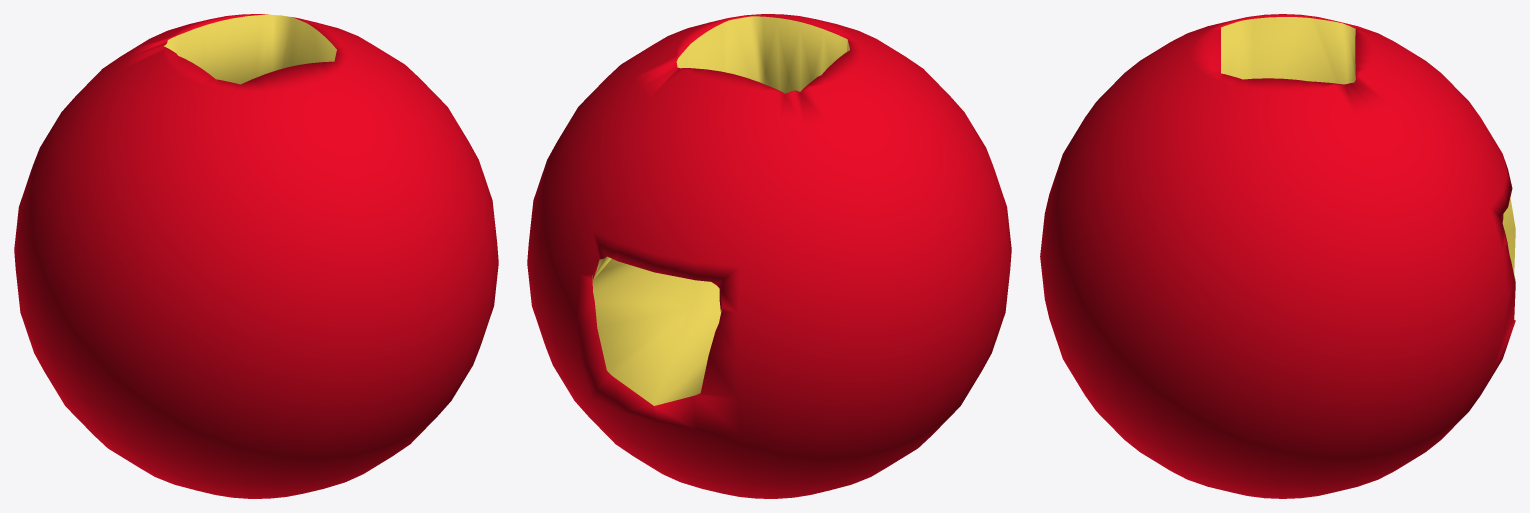
The model's file is apple.dae.
3 renders of one model, left to right at view 1: azimuth 30°, elevation 25°; view 2: azimuth 150°, elevation 25°; view 3: azimuth 270°, elevation 25°, orthographic.
Visible parts, largest first — view 1: Sphere; view 2: Sphere; view 3: Sphere.
Part boxes in pixels (<box>): Sphere: <box>14,14,498,498</box>; Sphere: <box>527,14,1011,498</box>; Sphere: <box>1040,14,1515,498</box>.
Bounding box in the file's own units: 2 × 1.96 × 1.96.
